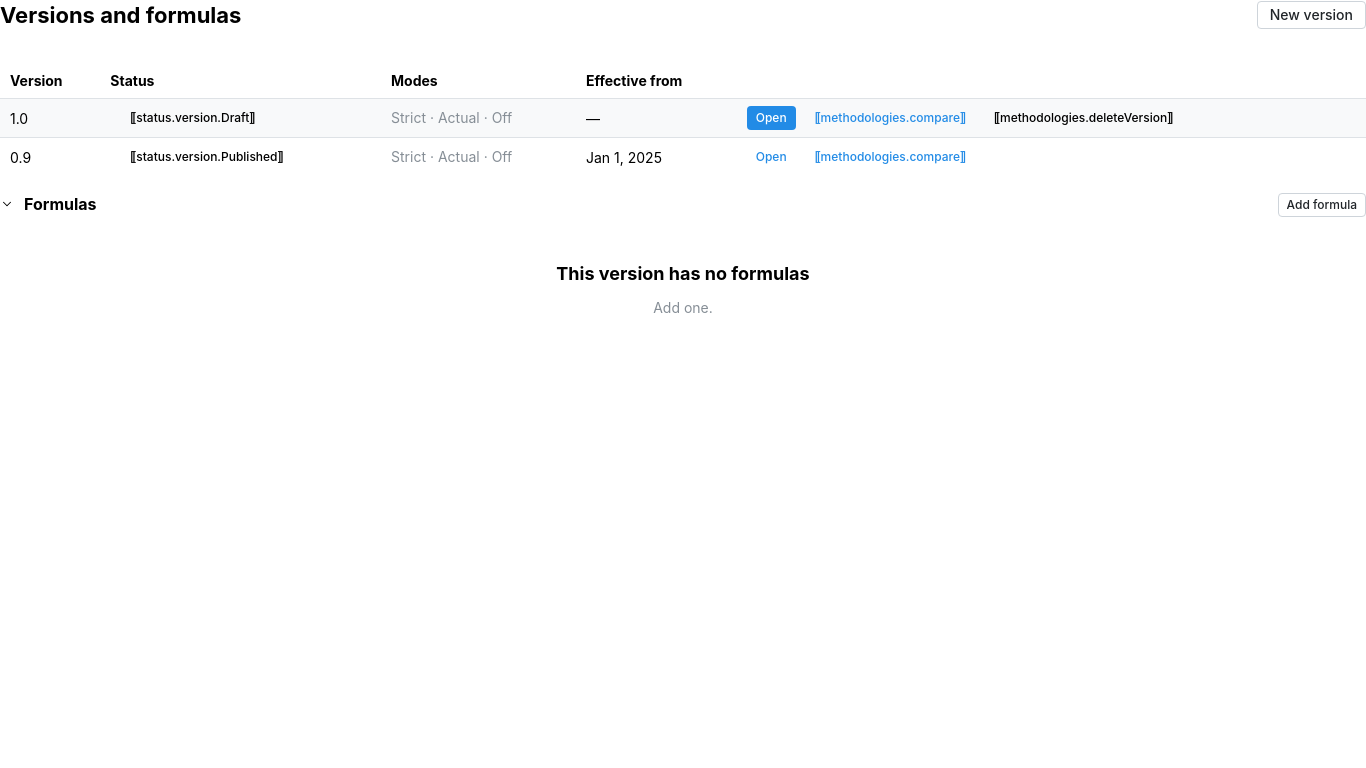
Test: MethodologyVersionsPage: відмова читання не виглядає як «нічого не заведено» › довідник одиниць не приїхав — у діалозі формули причина з кодом, а переліку немає зовсім
Expected: the text "1.0" is shown, [0,99,100,138]
Click the button "Add formula". click: (1322, 205)
box: [1278,193,1365,217]
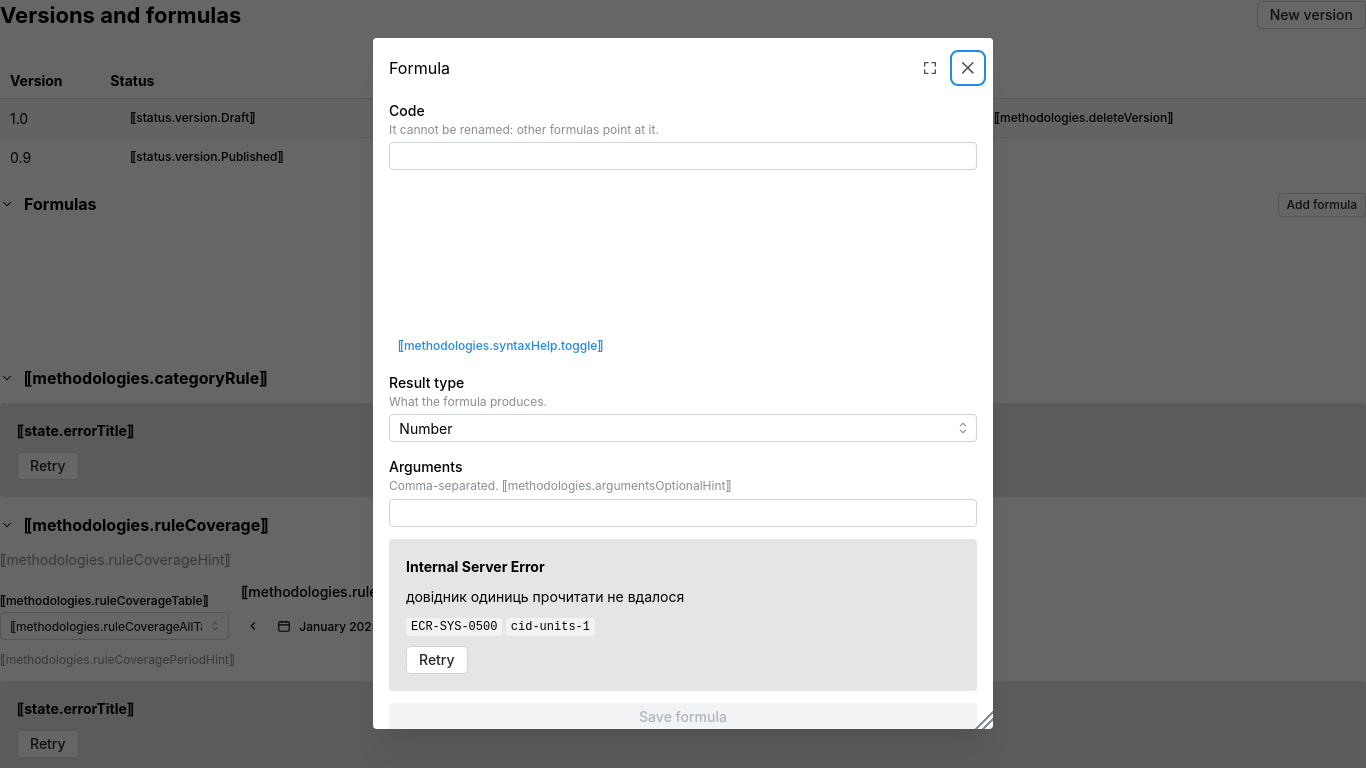
Expected: the button "Retry" is shown, [406,646,468,674]
